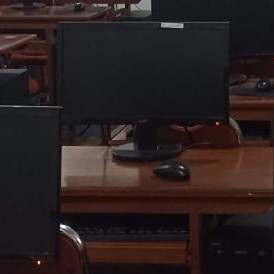monitor: (54, 20, 231, 161), (0, 105, 63, 263), (146, 0, 274, 61)
